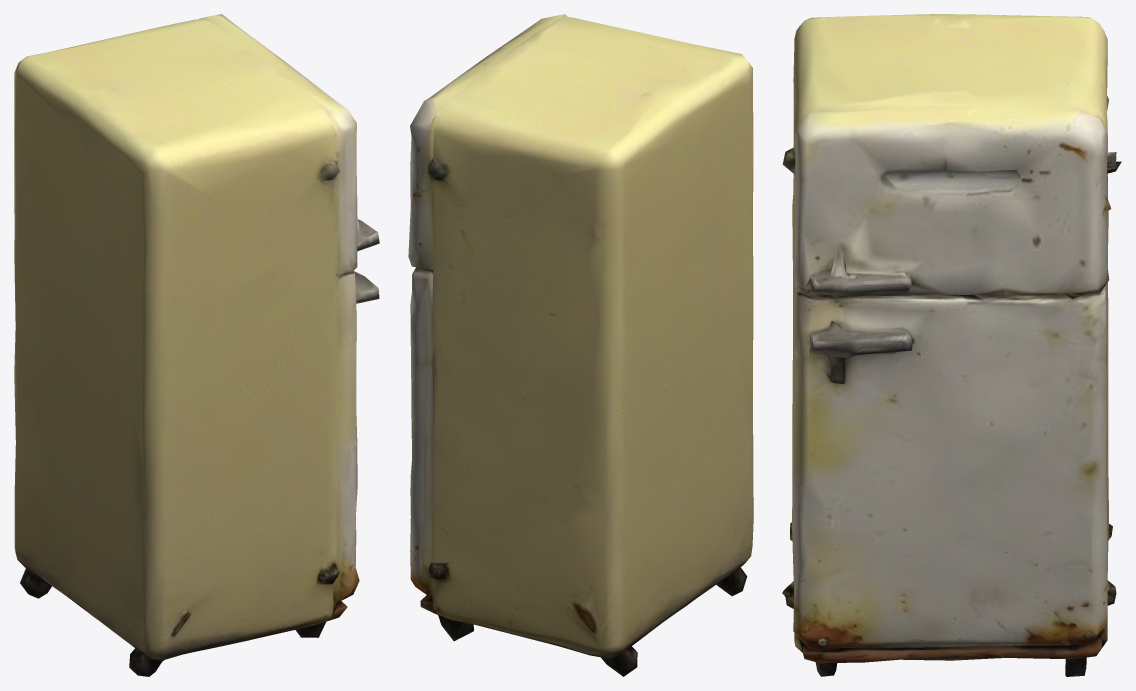
Rendered from e_fridge.glb.
The picture shows the model from 3 angles, left to right: view 1: azimuth 30°, elevation 25°; view 2: azimuth 150°, elevation 25°; view 3: azimuth 270°, elevation 25°; orthographic projection. The views are drawn at different scales.
Parts seen in each view (by area): view 1: tripo_node_f9891162-53e9-4f5b-9854-bd23ad516494; view 2: tripo_node_f9891162-53e9-4f5b-9854-bd23ad516494; view 3: tripo_node_f9891162-53e9-4f5b-9854-bd23ad516494.
Part boxes in pixels (x1,y1,x2,y2): tripo_node_f9891162-53e9-4f5b-9854-bd23ad516494: (14,14,379,676); tripo_node_f9891162-53e9-4f5b-9854-bd23ad516494: (408,14,753,676); tripo_node_f9891162-53e9-4f5b-9854-bd23ad516494: (782,14,1121,676).
Size of the model in its own units: 0.4619 by 1 by 0.5274.
Materials: 1 (1 with a texture image).
